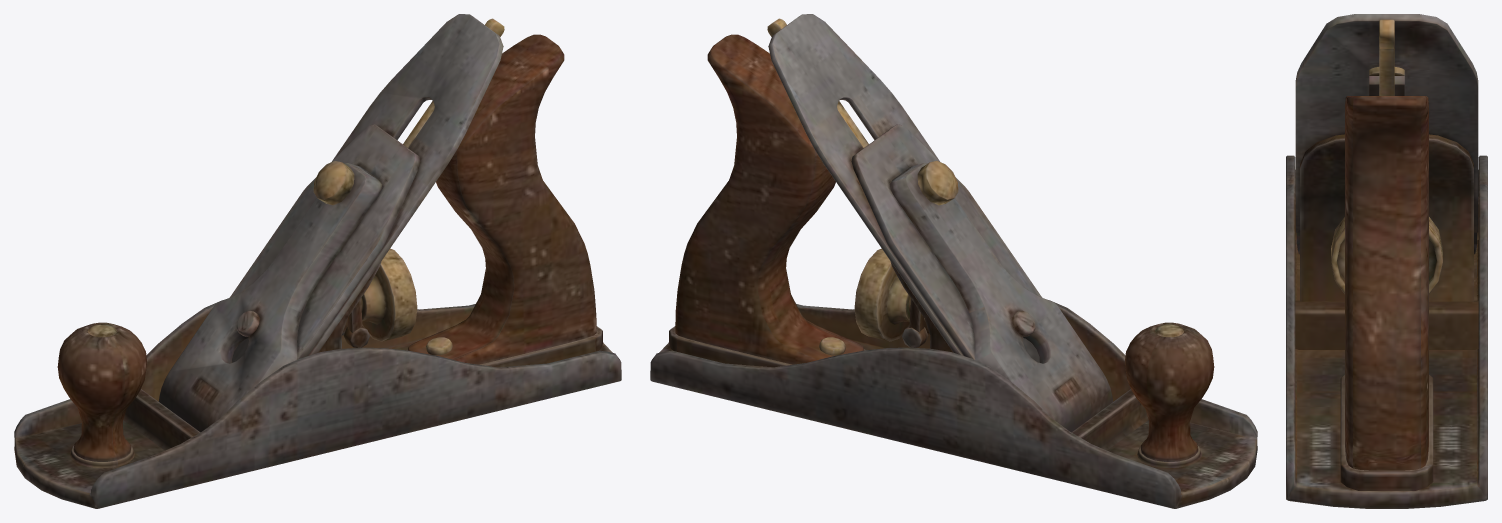
File: hand-plane.glb
3 views of the same model, side by side, from view 1: azimuth 30°, elevation 25°; view 2: azimuth 150°, elevation 25°; view 3: azimuth 270°, elevation 25° (orthographic). The views are drawn at different scales.
Visible parts, largest first — view 1: hand_plane_no4; view 2: hand_plane_no4; view 3: hand_plane_no4.
Boxes of the visible parts, box(x1,y1,x2,y2) form: hand_plane_no4: box(14, 14, 621, 508); hand_plane_no4: box(650, 14, 1257, 508); hand_plane_no4: box(1286, 14, 1487, 508).
Bounding box in the file's own units: 0.3308 × 0.1978 × 0.0843.
Materials: 1 (1 with a texture image).
